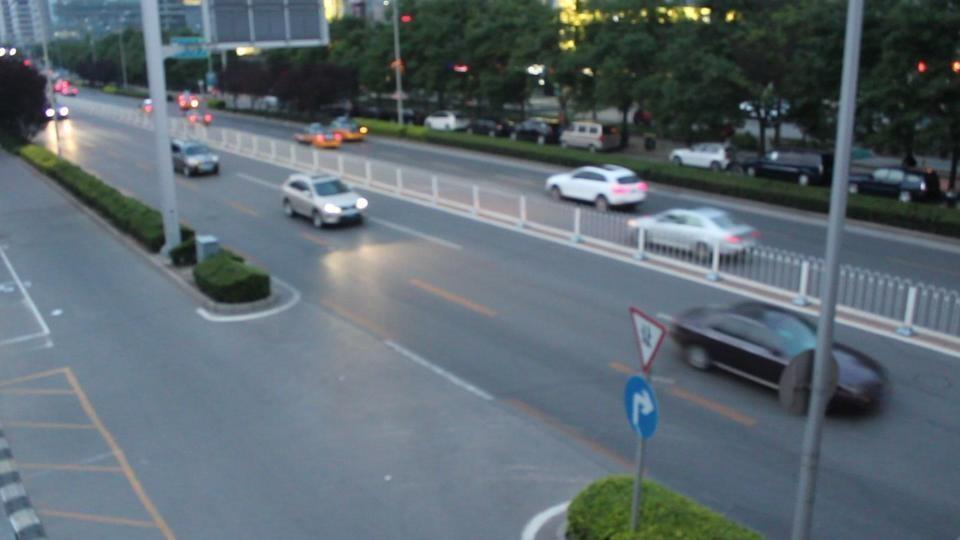car: (669, 300, 891, 419), (625, 207, 761, 262), (279, 171, 369, 229), (545, 163, 648, 212), (842, 163, 945, 203), (746, 149, 831, 187), (668, 143, 752, 173), (292, 120, 368, 148), (559, 121, 624, 152), (170, 139, 221, 178), (511, 118, 562, 145), (466, 117, 513, 139), (424, 112, 473, 133), (54, 80, 79, 97), (44, 104, 70, 120)
